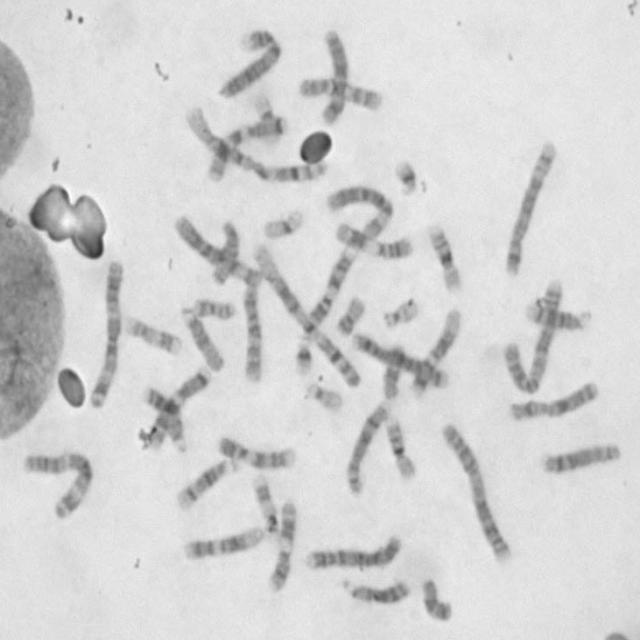A1: (250, 240, 362, 389), (182, 105, 328, 186)
A2: (438, 419, 514, 566), (502, 275, 564, 396)
A3: (88, 257, 126, 409), (20, 451, 95, 520)
B4: (215, 28, 281, 101), (304, 532, 402, 572)
B5: (503, 138, 557, 277), (349, 332, 451, 392)
C10: (299, 74, 385, 114), (240, 279, 264, 385)
C11: (333, 221, 413, 260), (268, 494, 298, 592)
C12: (408, 307, 462, 397), (182, 525, 266, 560)
C6: (171, 212, 265, 288), (326, 183, 395, 242)
C7: (206, 114, 289, 184), (148, 364, 213, 451)
C8: (344, 400, 392, 497), (541, 443, 622, 476)
C9: (307, 245, 359, 326), (217, 435, 298, 469)
D13: (139, 383, 189, 456), (342, 578, 412, 604)
D14: (173, 458, 241, 511), (523, 303, 596, 334)
D15: (179, 304, 226, 374), (209, 220, 241, 285)
E16: (424, 221, 462, 294), (384, 418, 417, 481)
E17: (123, 313, 185, 357), (250, 472, 280, 534)
E18: (420, 575, 456, 625), (381, 341, 405, 401)
F19: (253, 92, 281, 143), (261, 207, 304, 240)
F20: (336, 294, 366, 338), (192, 296, 236, 322)
G21: (292, 334, 314, 379), (393, 159, 419, 197)
G22: (302, 384, 343, 414), (382, 297, 418, 328)
X: (508, 380, 602, 423), (320, 26, 350, 126)
